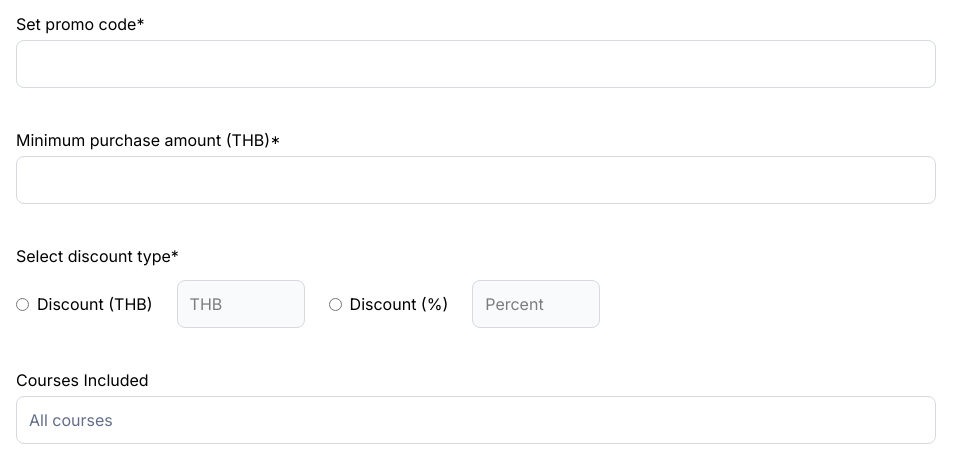
PromoCodeForm › clamps a percent discount above 100 back to 100 on blur
Click the radio button labelled "Discount (%)": (335, 304) [329,298,342,310]
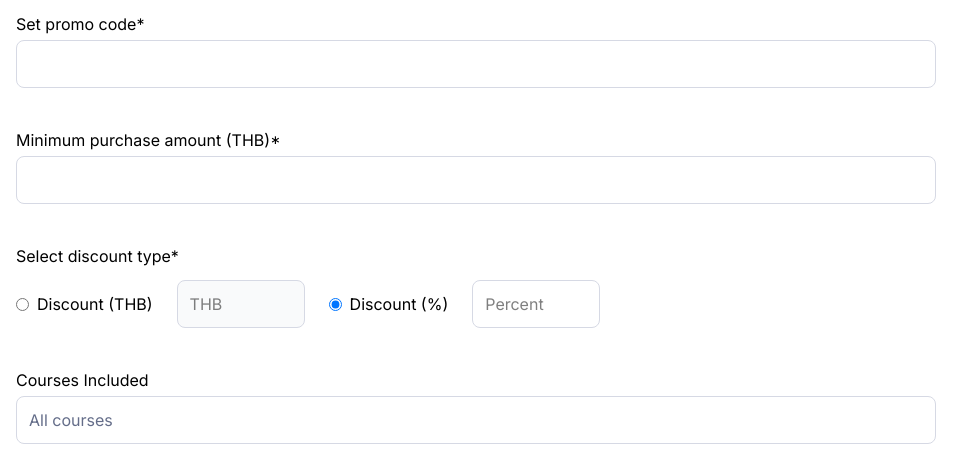
In the field with placeholder "Percent": (536, 304) [472,280,600,328], type "150"
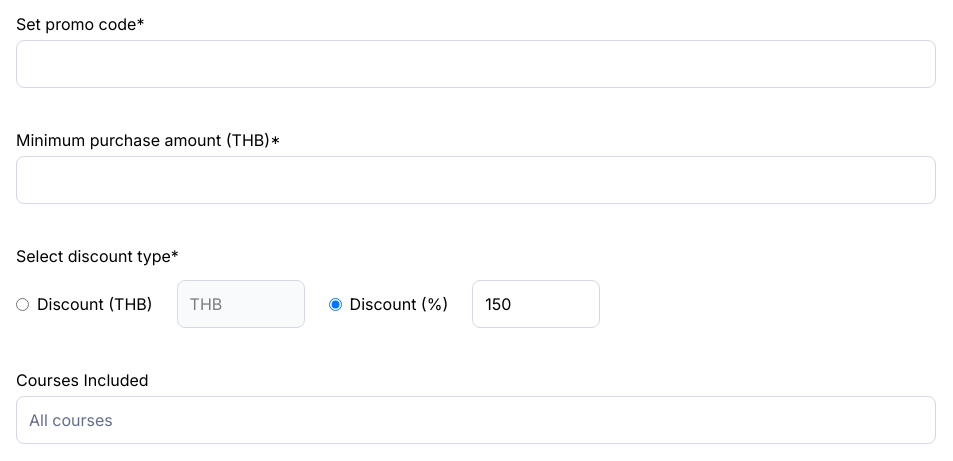
Leave the field with placeholder "Percent", box [472,280,600,328]
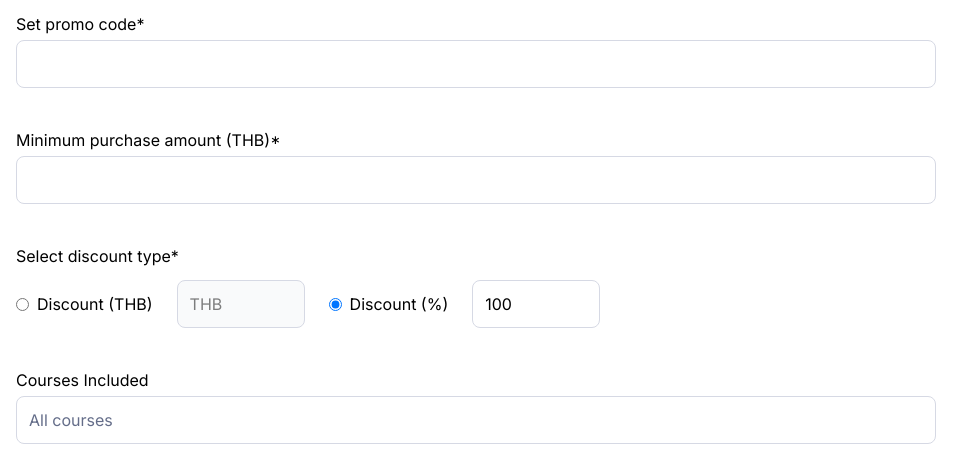
Result: the field with placeholder "Percent" holds "100" at [472,280,600,328]
